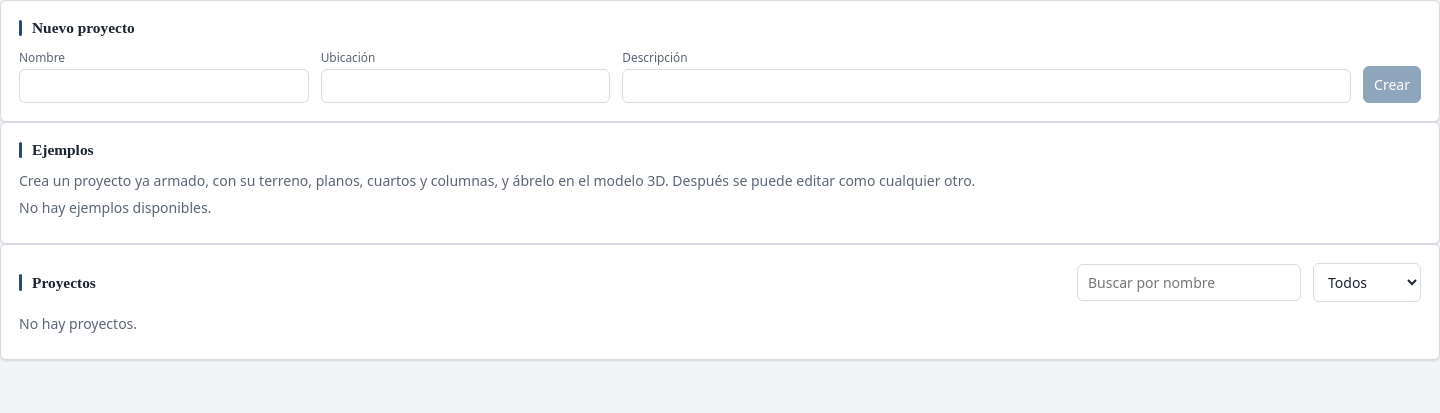
it: ProjectsPage › keeps the form and shows the error when the project cannot be created
Expected: the text "No hay proyectos." is shown, [19,314,137,333]
Type "Casa Nueva" into the field labelled "Nombre" at point(164, 86), box [19,69,309,103]
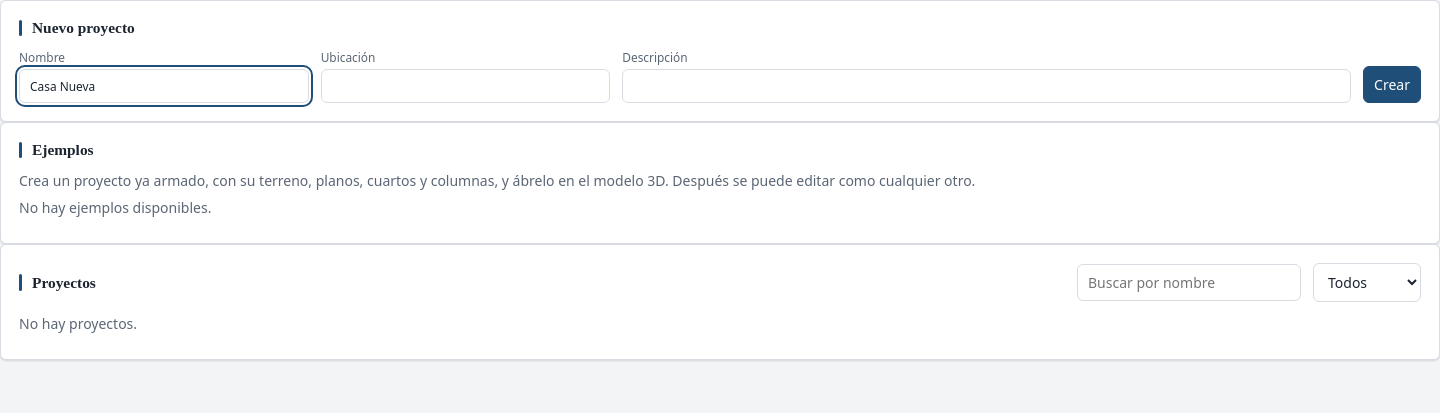
Click the button "Crear" at point(1392, 84), box [1363,66,1421,103]
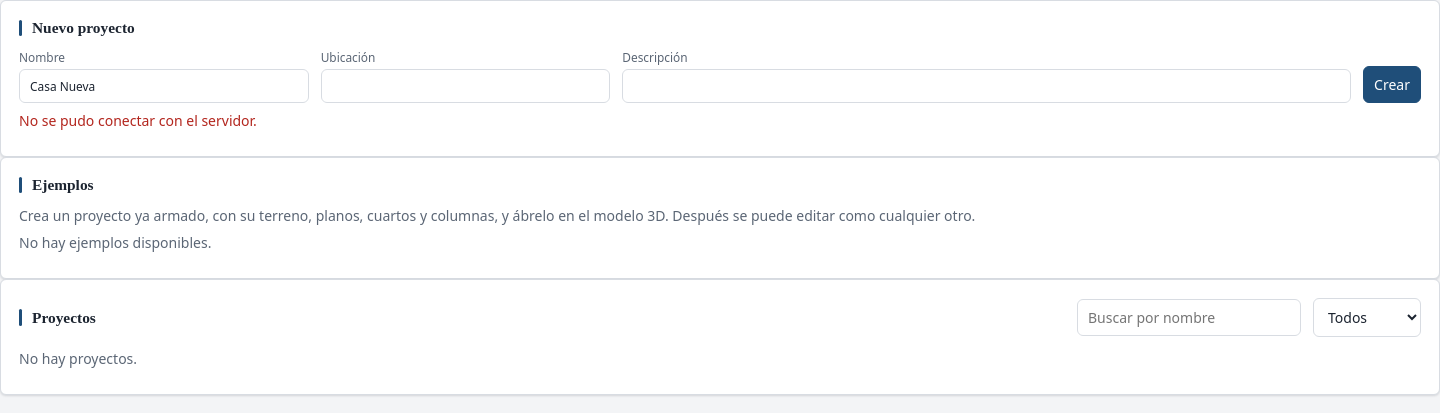
Expected: the button "Crear" is enabled, [1363,66,1421,103]
Expected: the message reads "No se pudo conectar con el servidor.", [19,111,257,130]
